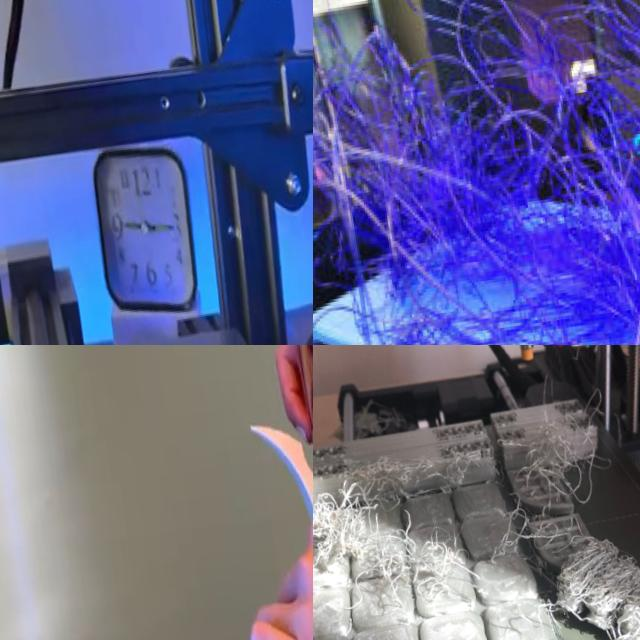spaghetti: (313, 0, 640, 345), (313, 363, 640, 640)
